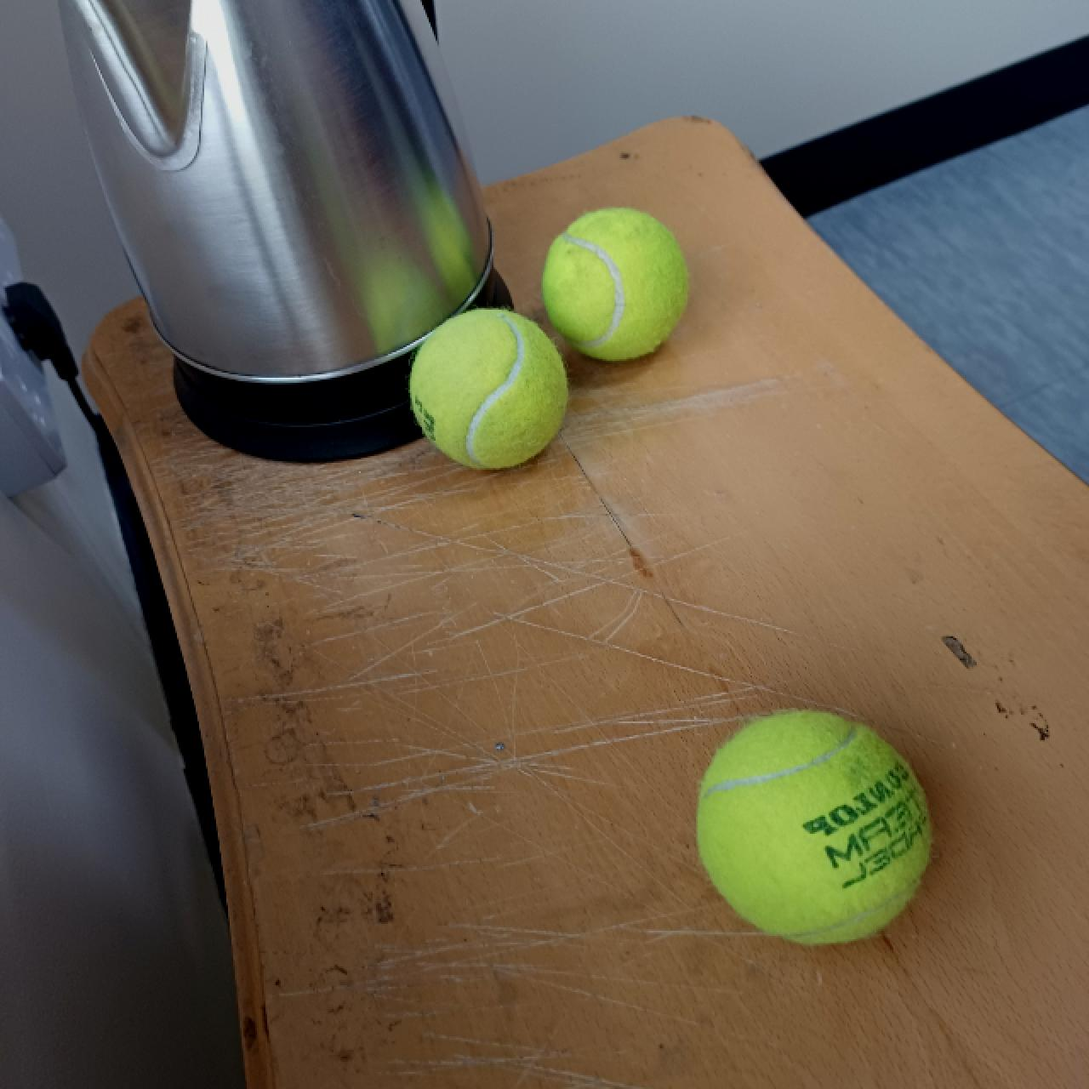tennis-ball: (690, 707, 934, 948), (405, 306, 571, 470), (541, 204, 691, 362)
